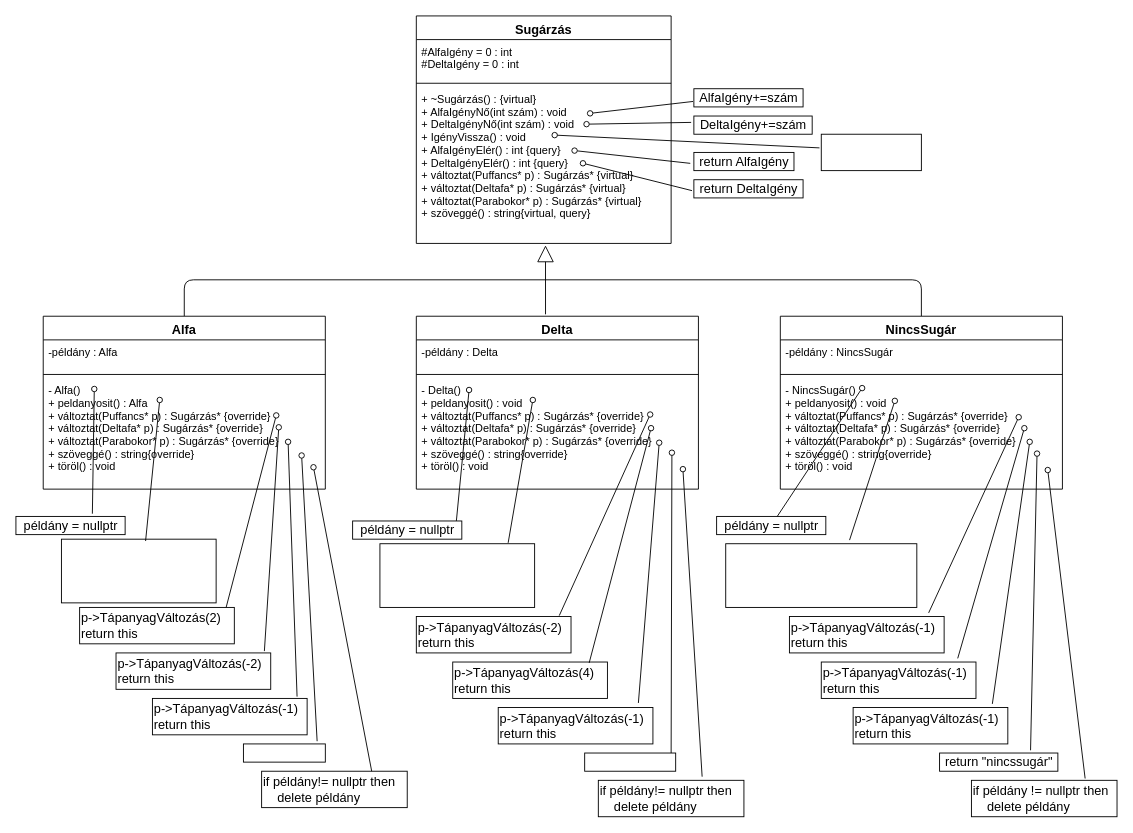
The diagram is 1133 pixels wide and 833 high, and some of its shapes have lost their labels. Here are the shapes that lost their labels. From the top down, the box of each, then its label:
(820, 133, 921, 171): AlfaIgény = 0 DeltaIgény = 0
(61, 538, 216, 603): if példány=nullptr then példány = new Alfa() endif return példány
(379, 543, 535, 607): if példány=nullptr then példány = new Delta() endif return példány
(725, 543, 917, 607): if példány=nullptr then példány = new NincsSugár() endif return példány
(243, 743, 325, 762): return "alfa"
(584, 752, 676, 771): return "delta"
